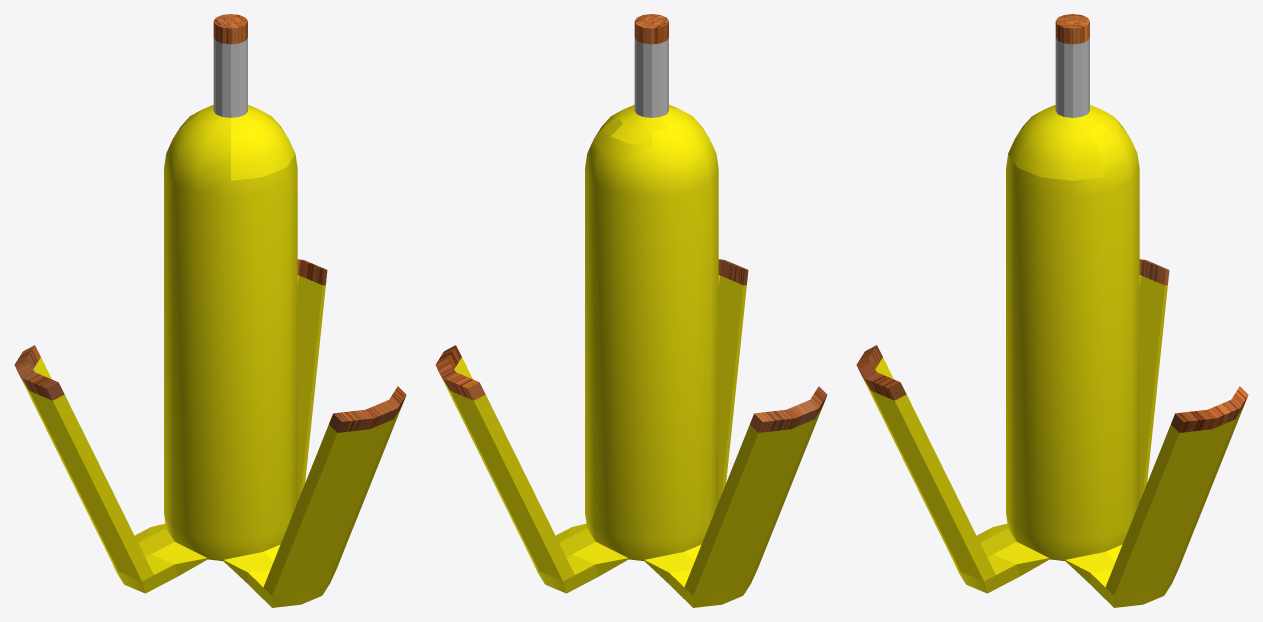
Rendered from BananaPeel.fbx.
3 views of the same model, side by side, from view 1: azimuth 30°, elevation 25°; view 2: azimuth 150°, elevation 25°; view 3: azimuth 270°, elevation 25° (orthographic).
Visible parts, largest first — view 1: Capsule001; view 2: Capsule001; view 3: Capsule001.
Boxes of the visible parts, box(x1,y1,x2,y2) form: Capsule001: box(14, 14, 406, 607); Capsule001: box(435, 14, 827, 607); Capsule001: box(856, 14, 1248, 607).
Bounding box in the file's own units: 63.08 × 63.08 × 97.03.
